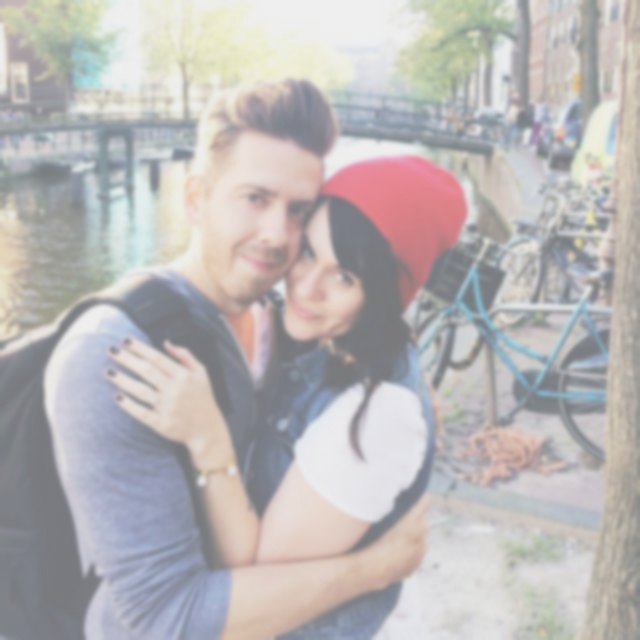pessoa: (36, 75, 438, 639), (102, 150, 473, 640), (530, 96, 548, 150), (506, 97, 526, 144), (530, 96, 542, 149), (0, 105, 25, 125), (453, 94, 477, 112)
